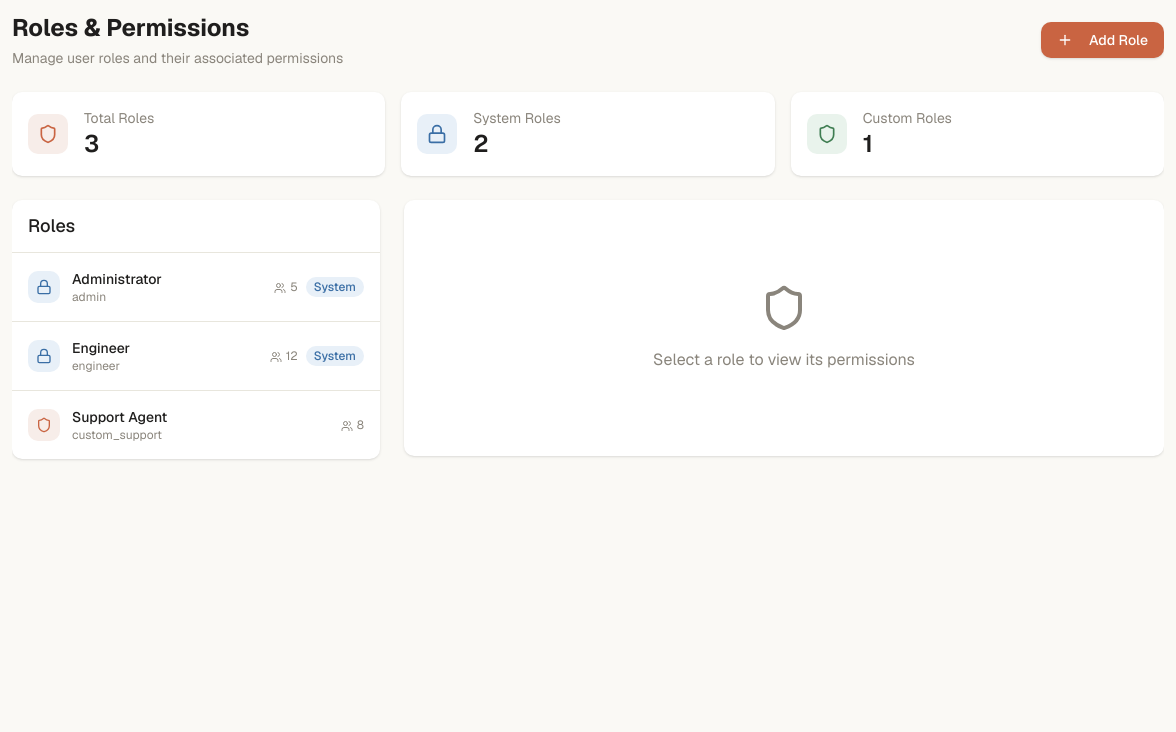
Test: RolesPage › Role Details - Permissions › expands resource to show individual permissions
Click the text "Administrator".
click(117, 279)  # box [72,269,162,289]
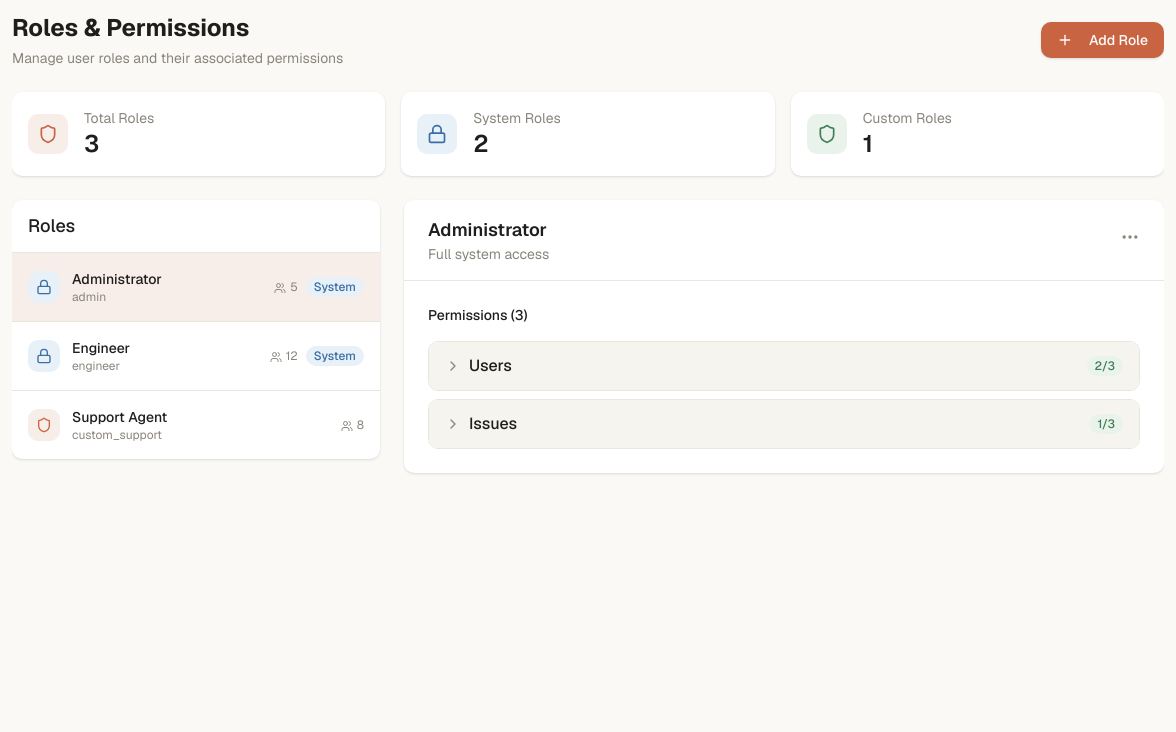
Now the text "Users" is shown, box [469,354,512,378]
Click the button "Users 2/3".
click(490, 366)  # box [429,342,1139,390]
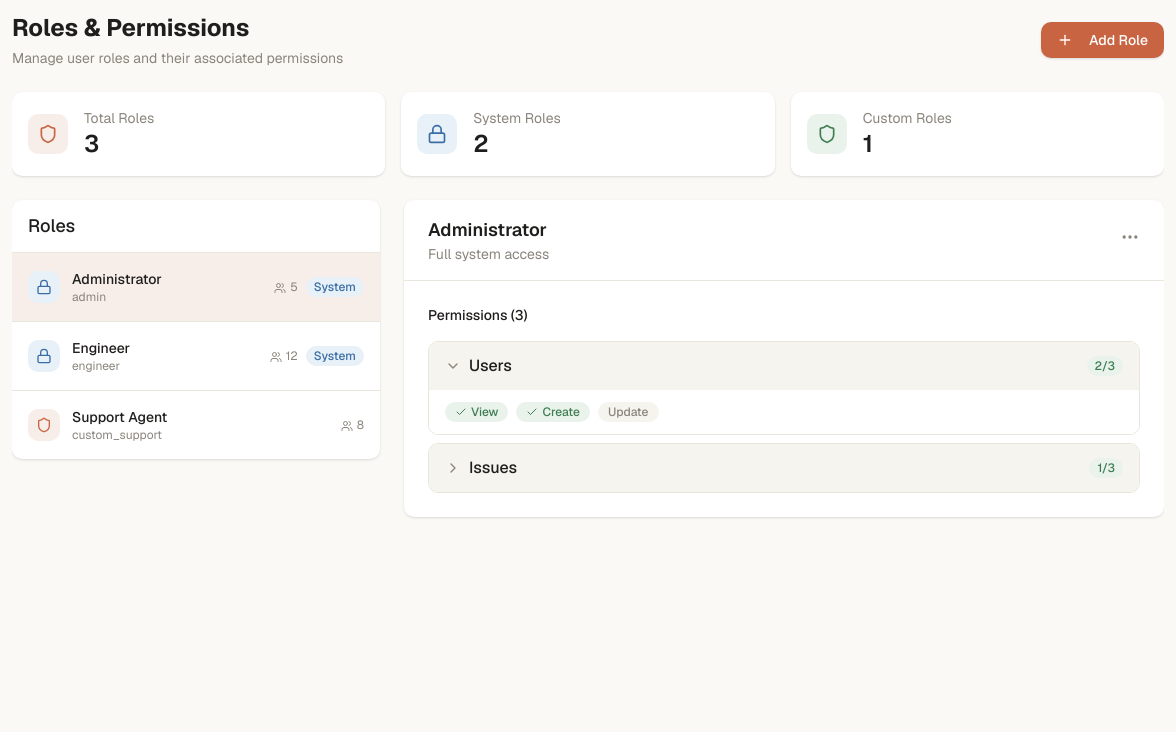
Now the text "View" is shown, box [445,402,508,422]
